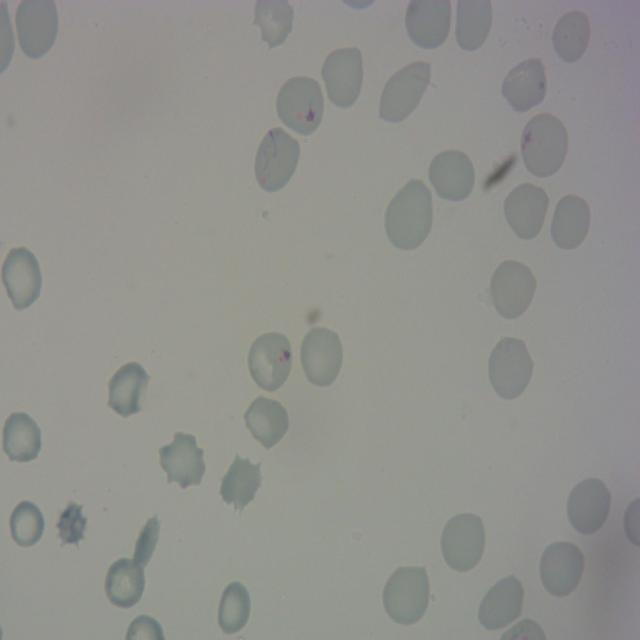leukocyte: (385, 177, 436, 250), (376, 60, 432, 124), (381, 562, 432, 627), (486, 336, 535, 402), (502, 179, 551, 243), (320, 43, 366, 111), (538, 536, 590, 596), (298, 323, 345, 389), (564, 475, 612, 538), (477, 572, 526, 633), (0, 245, 43, 313), (426, 147, 476, 205), (499, 55, 547, 115), (547, 190, 592, 253), (158, 432, 206, 491), (105, 359, 151, 420), (242, 394, 290, 450), (442, 510, 486, 571), (492, 256, 536, 317), (102, 554, 148, 611), (550, 5, 593, 64), (0, 409, 43, 467), (218, 454, 262, 510), (212, 578, 252, 637), (5, 497, 46, 553), (52, 501, 91, 552), (133, 515, 160, 571)
red blood cell: (252, 126, 301, 192), (520, 111, 568, 175), (275, 76, 325, 137), (248, 329, 292, 392)
